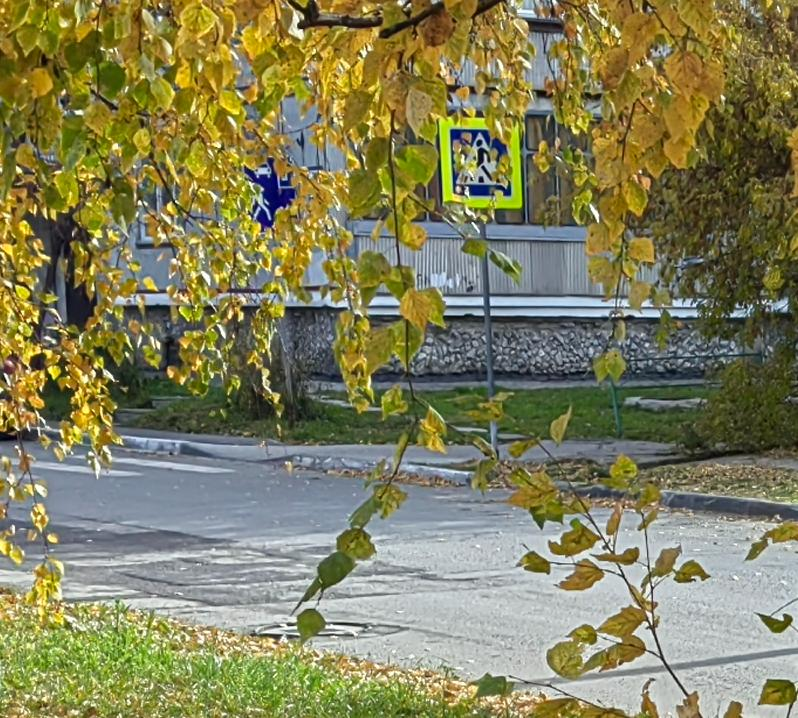obstructed_road_sign: (440, 117, 525, 209), (243, 154, 301, 232)
